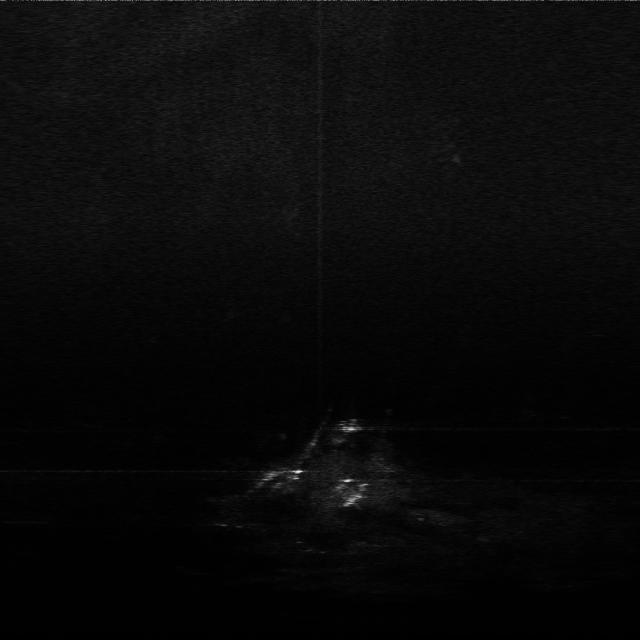rov: (337, 416, 363, 436)
